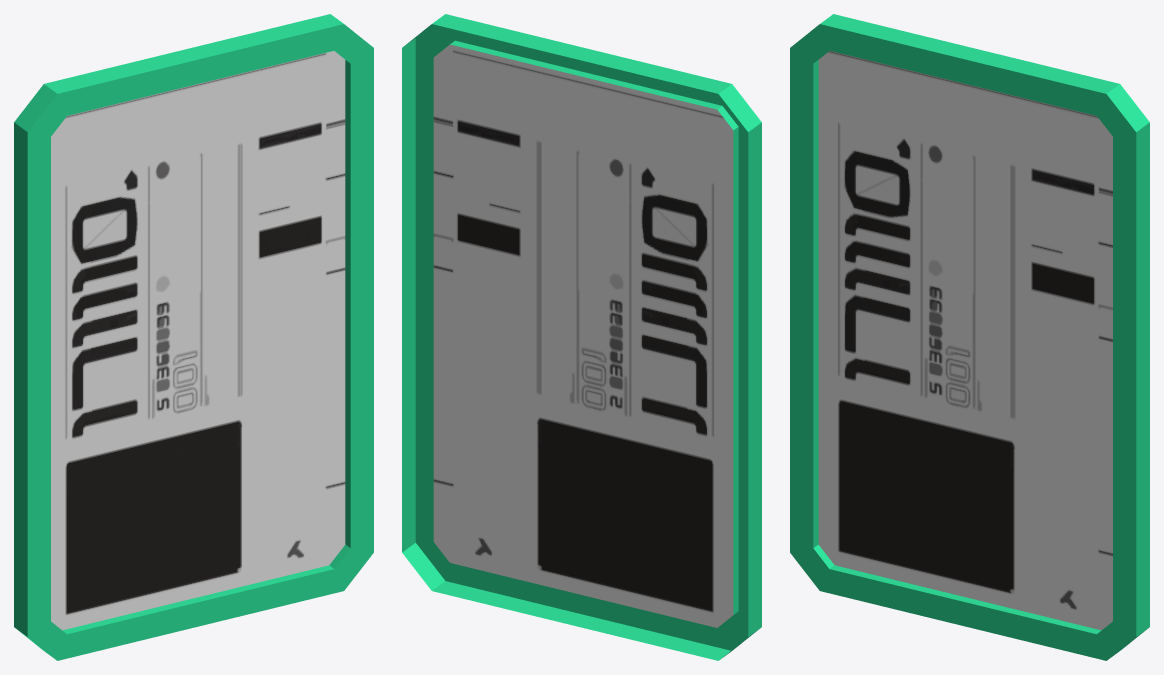
File: CbpBillboard B.fbx
3 renders of one model, left to right at view 1: azimuth 30°, elevation 25°; view 2: azimuth 150°, elevation 25°; view 3: azimuth 330°, elevation 25°, orthographic.
Parts seen in each view (by area): view 1: CbpBillboard B; view 2: CbpBillboard B; view 3: CbpBillboard B.
Boxes of the visible parts, bbox=[...] form: CbpBillboard B: bbox=[14, 14, 373, 660]; CbpBillboard B: bbox=[402, 14, 761, 660]; CbpBillboard B: bbox=[790, 14, 1149, 660].
Size of the model in its own units: 8.01 by 12.54 by 0.548.
